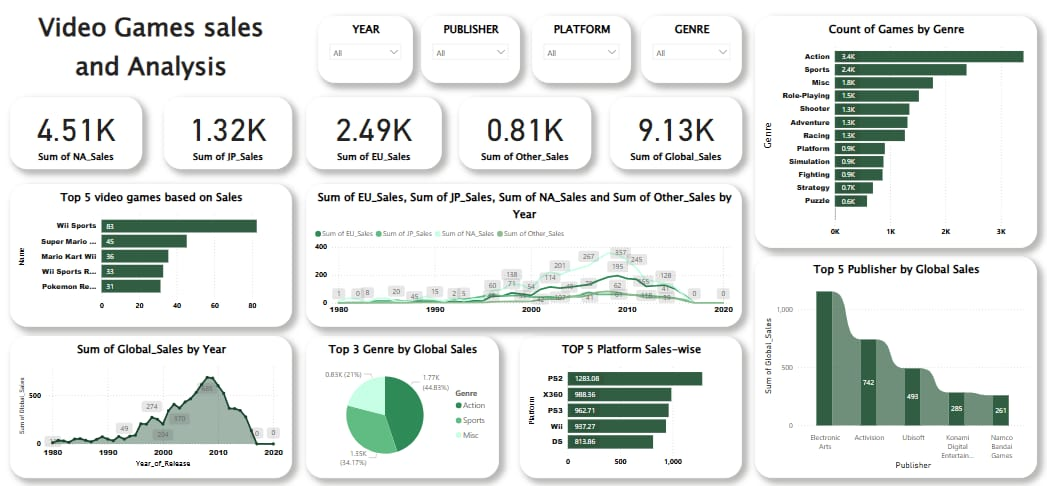

Layout of this report page (visuals, bound fields, positions):
{"tool":"powerbi","page":{"name":"Page 1","canvas":[1800,1600],"ordinal":0},"visuals":[{"type":"card","fields":{"Values":["Sum(Video_Games.NA_Sales)"]},"box":[17.2,166.4,226.5,123.5],"z":0},{"type":"card","fields":{"Values":["Sum(Video_Games.JP_Sales)"]},"box":[281.4,166.4,219.6,123.5],"z":1000},{"type":"card","fields":{"Values":["Sum(Video_Games.EU_Sales)"]},"box":[525.1,166.4,233.4,123.5],"z":2000},{"type":"card","fields":{"Values":["Sum(Video_Games.Other_Sales)"]},"box":[787.6,166.4,226.5,123.5],"z":3000},{"type":"slicer","title":"YEAR","fields":{"Values":["Video_Games.Year_of_Release"]},"box":[545.7,27.5,163,115],"z":4000},{"type":"pieChart","title":"Top 3 Genre by Global Sales","fields":{"Category":["Video_Games.Genre"],"Y":["Sum(Video_Games.Global_Sales)"]},"box":[525.1,576.5,331.2,243.7],"z":5000},{"type":"card","fields":{"Values":["Sum(Video_Games.Global_Sales)"]},"box":[1046.7,166.4,226.5,123.5],"z":6000},{"type":"ribbonChart","title":"Top 5 Publisher by Global Sales","fields":{"Category":["Video_Games.Publisher"],"Y":["Sum(Video_Games.Global_Sales)"]},"box":[1295.5,439.3,483.9,380.9],"z":7000},{"type":"slicer","title":"PUBLISHER","fields":{"Values":["Video_Games.Publisher"]},"box":[722.4,27.5,169.9,115],"z":9000},{"type":"slicer","title":"PLATFORM","fields":{"Values":["Video_Games.Platform"]},"box":[912.9,27.5,169.9,115],"z":10000},{"type":"slicer","title":"GENRE","fields":{"Values":["Video_Games.Genre"]},"box":[1099.9,27.5,173.3,115],"z":11000},{"type":"barChart","title":"TOP 5 Platform Sales-wise","fields":{"Category":["Video_Games.Platform"],"Y":["Sum(Video_Games.Global_Sales)"]},"box":[892.3,576.5,380.9,243.7],"z":12000},{"type":"clusteredBarChart","title":"Count of Games by Genre","fields":{"Category":["Video_Games.Genre"],"Y":["CountNonNull(Video_Games.Name)"]},"box":[1295.5,27.5,483.9,398.1],"z":13000},{"type":"clusteredBarChart","title":"Top 5 video games based on Sales","fields":{"Category":["Video_Games.Name"],"Y":["Sum(Video_Games.Global_Sales)"]},"box":[17.2,315.7,483.9,245.4],"z":14000},{"type":"lineChart","title":"Sum of EU_Sales, Sum of JP_Sales, Sum of NA_Sales and Sum of Other_Sales by Year","fields":{"Category":["Video_Games.Year_of_Release"],"Y":["Sum(Video_Games.EU_Sales)","Sum(Video_Games.JP_Sales)","Sum(Video_Games.NA_Sales)","Sum(Video_Games.Other_Sales)"]},"box":[525.1,315.7,748.1,245.4],"z":15000},{"type":"areaChart","title":"Sum of Global_Sales by Year","fields":{"Category":["Video_Games.Year_of_Release"],"Y":["Sum(Video_Games.Global_Sales)"]},"box":[17.2,576.5,483.9,243.7],"z":16000},{"type":"textbox","box":[17.2,10.3,483.9,144.1],"z":17000}]}

Visuals, with their boxes on the page's 1800x1600 design canvas (x1, y1, x2, y2). These are canvas units, not pixel positions in the 1047x486 screenshot, which may show the page scaled, cropped or inside an application window:
card - Sum(Video_Games.NA_Sales): [17, 166, 244, 290]
card - Sum(Video_Games.JP_Sales): [281, 166, 501, 290]
card - Sum(Video_Games.EU_Sales): [525, 166, 758, 290]
card - Sum(Video_Games.Other_Sales): [788, 166, 1014, 290]
"YEAR" slicer: [546, 28, 709, 142]
"Top 3 Genre by Global Sales" pieChart: [525, 576, 856, 820]
card - Sum(Video_Games.Global_Sales): [1047, 166, 1273, 290]
"Top 5 Publisher by Global Sales" ribbonChart: [1296, 439, 1779, 820]
"PUBLISHER" slicer: [722, 28, 892, 142]
"PLATFORM" slicer: [913, 28, 1083, 142]
"GENRE" slicer: [1100, 28, 1273, 142]
"TOP 5 Platform Sales-wise" barChart: [892, 576, 1273, 820]
"Count of Games by Genre" clusteredBarChart: [1296, 28, 1779, 426]
"Top 5 video games based on Sales" clusteredBarChart: [17, 316, 501, 561]
"Sum of EU_Sales, Sum of JP_Sales, Sum of NA_Sales and Sum of Other_Sales by Year" lineChart: [525, 316, 1273, 561]
"Sum of Global_Sales by Year" areaChart: [17, 576, 501, 820]
textbox: [17, 10, 501, 154]
